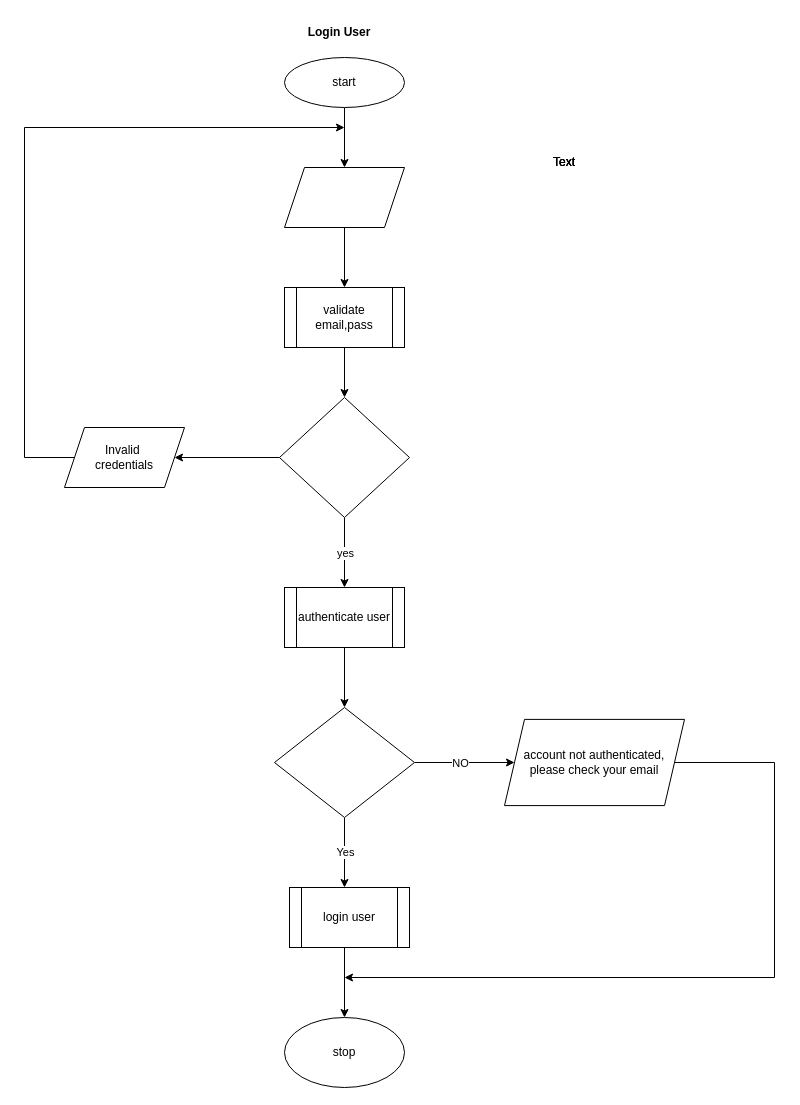
This 800x1105 diagram has some shape labels left out. Each missing label, with the box of its shape:
credentials is valid: (278, 396, 410, 518)
is user authenticated: (274, 706, 414, 818)
name *string pass *string: (284, 166, 404, 228)
